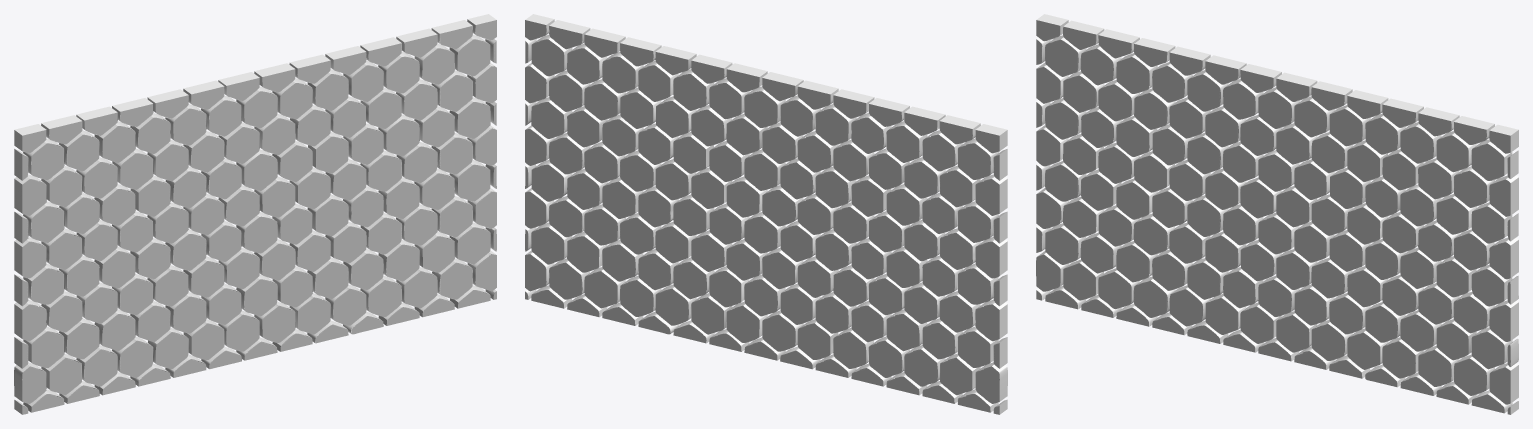
File: 3Dhex-wide.dae
3 views of the same model, side by side, from view 1: azimuth 30°, elevation 25°; view 2: azimuth 150°, elevation 25°; view 3: azimuth 330°, elevation 25° (orthographic).
Visible parts, largest first — view 1: Layer_1; view 2: Layer_1; view 3: Layer_1.
Part boxes in pixels (x1=…): Layer_1: x1=14, y1=14, x2=496, y2=414; Layer_1: x1=525, y1=14, x2=1007, y2=414; Layer_1: x1=1036, y1=14, x2=1518, y2=414.
Size of the model in its own units: 26.69 by 15.01 by 0.793.
3 materials, 3 textured.
